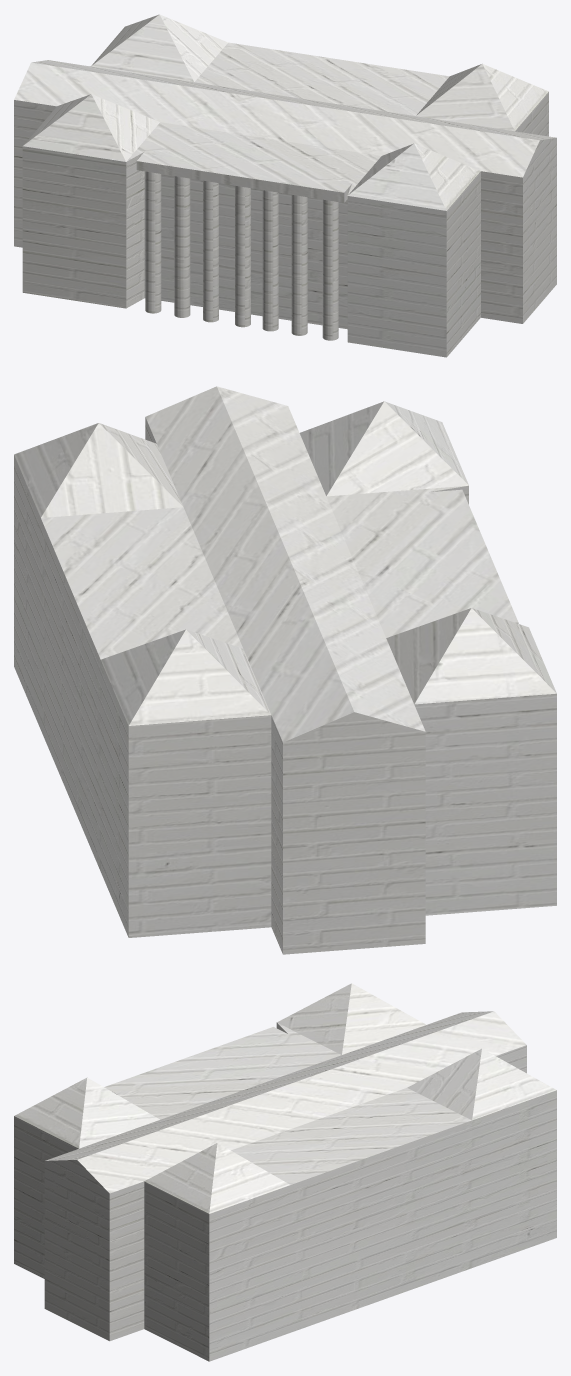
The model's file is CornelioSaavedra-OLD.gltf.
3 views of the same model, one above another, from view 1: azimuth 30°, elevation 25°; view 2: azimuth 150°, elevation 25°; view 3: azimuth 270°, elevation 25° (orthographic). The views are drawn at different scales.
Visible parts, largest first — view 1: CornelioSaavedra; view 2: CornelioSaavedra; view 3: CornelioSaavedra.
Part boxes in pixels (left/top/right/bottom): CornelioSaavedra: left=14, top=14, right=556, bottom=357; CornelioSaavedra: left=14, top=386, right=556, bottom=954; CornelioSaavedra: left=14, top=983, right=556, bottom=1361.
Size of the model in its own units: 1.15 by 0.4694 by 1.19.
Materials: 1 (1 with a texture image).
